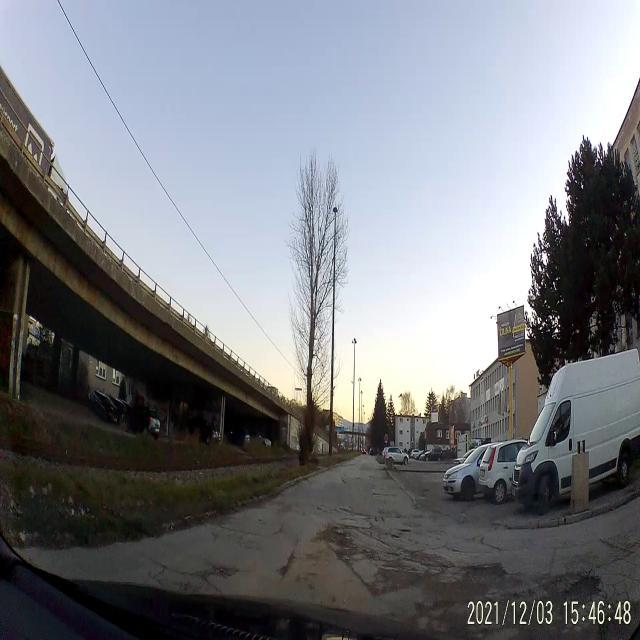Pothole: (464, 554, 510, 588), (322, 524, 355, 562), (202, 554, 236, 584), (281, 550, 294, 582), (394, 524, 412, 536)
